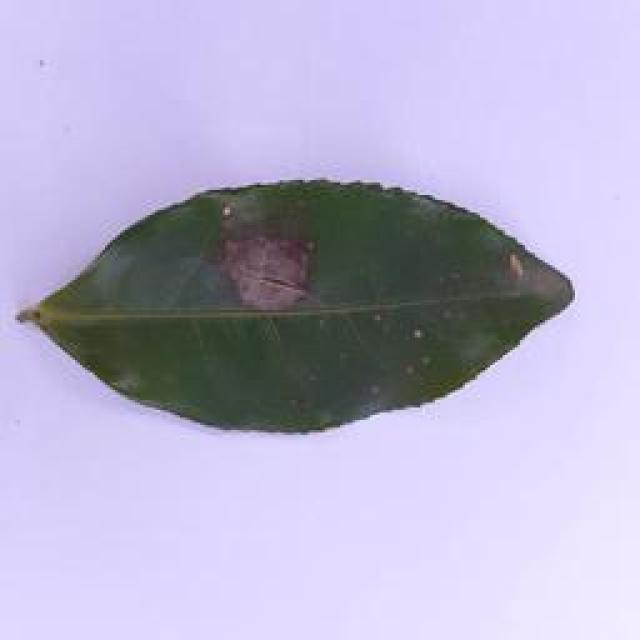Gray Blight: (9, 175, 578, 441)
